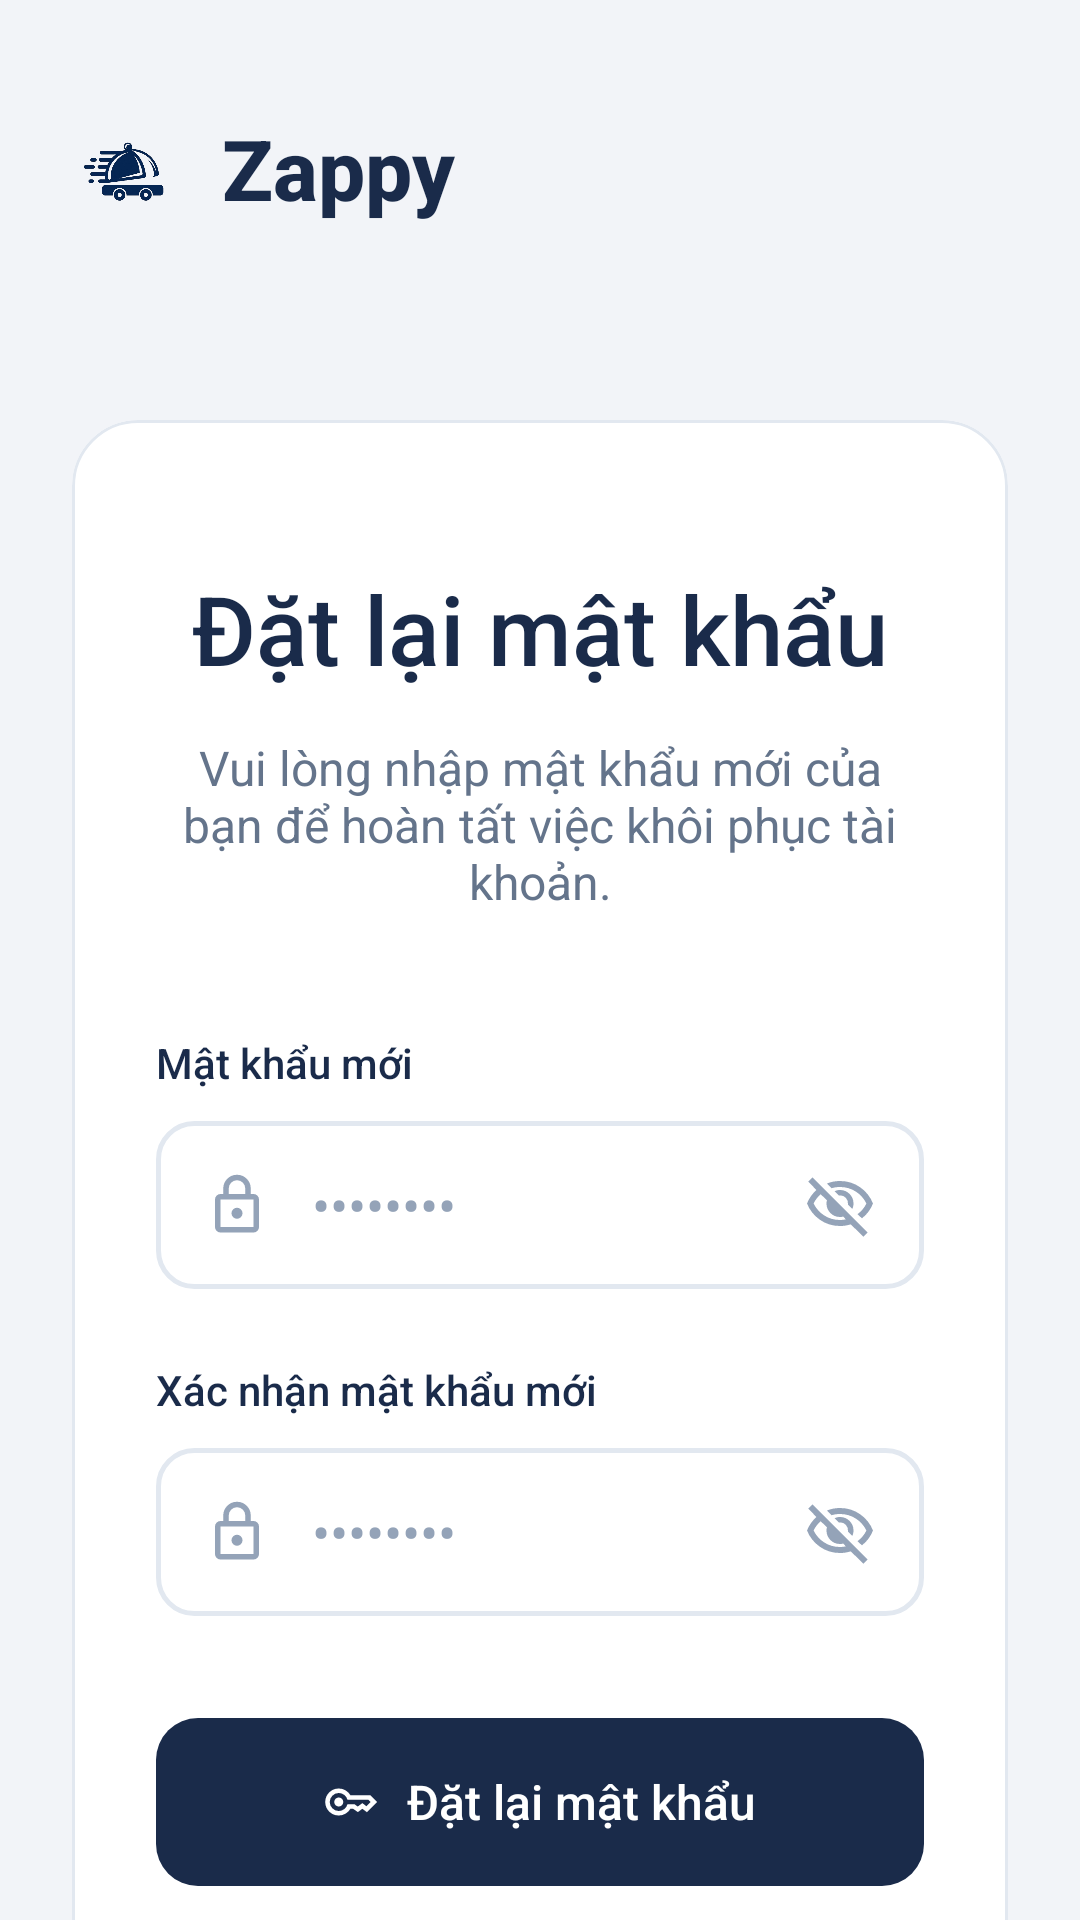

Point at icon controls on the screen. Image size 1080*1920, points as (x=x, y=y).
key: (x=351, y=1802)
lock: (x=237, y=1203), (x=237, y=1530)
visibility hidden: (x=840, y=1207), (x=840, y=1534)
